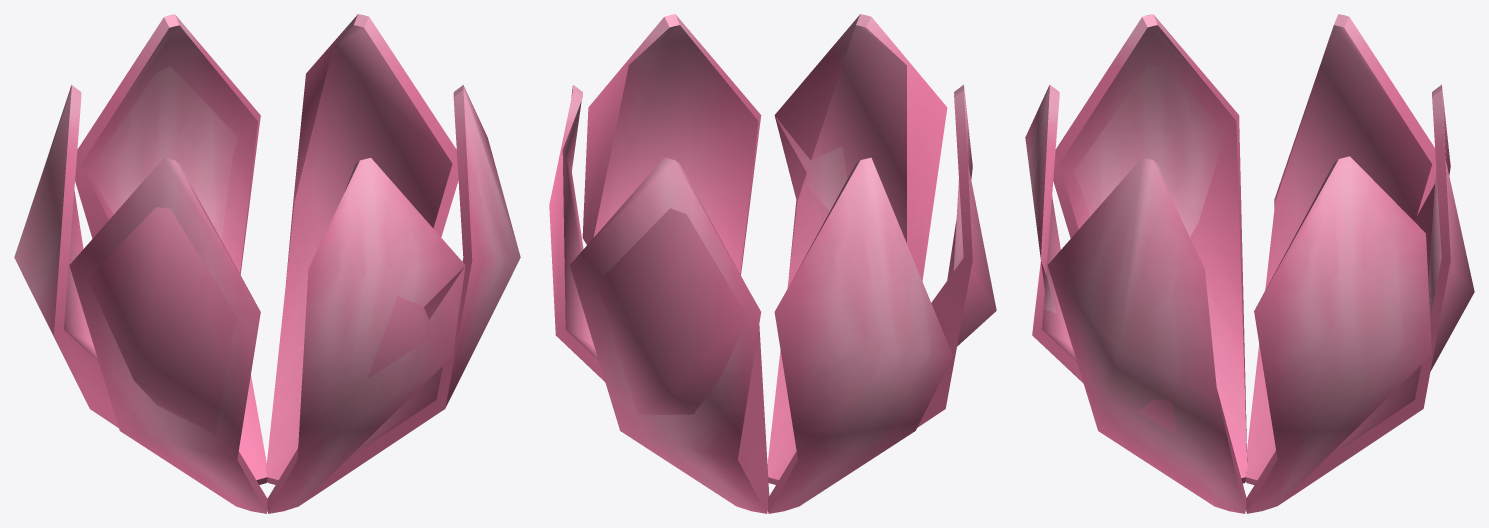
The model's file is lotus.lod1.glb.
3 renders of one model, left to right at view 1: azimuth 30°, elevation 25°; view 2: azimuth 150°, elevation 25°; view 3: azimuth 270°, elevation 25°, orthographic.
Visible parts, largest first — view 1: Object_3; view 2: Object_3; view 3: Object_3.
Boxes of the visible parts, x1,y1,x2,y2 form: Object_3: [14, 14, 520, 513]; Object_3: [549, 14, 996, 513]; Object_3: [1025, 14, 1474, 513].
Bounding box in the file's own units: 0.9188 × 0.9 × 0.888.
1 material, 1 textured.
